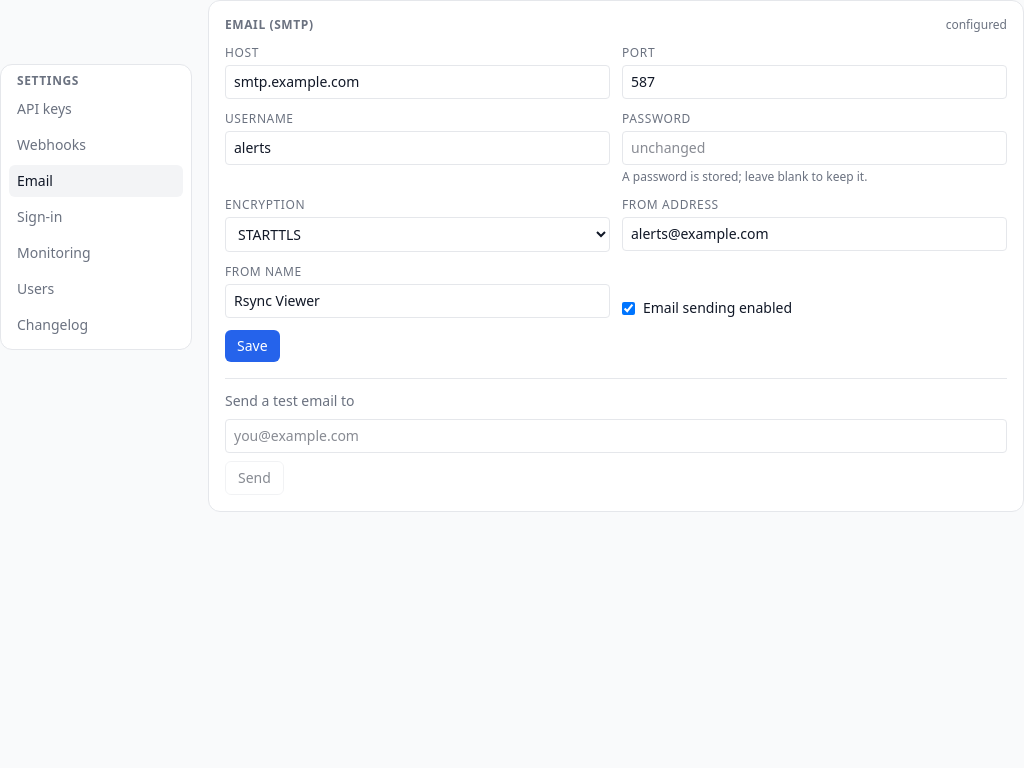
Email (AC-014) › loads settings, keeps the password on save, and sends a test
Expected: the field labelled "Host" holds "smtp.example.com", x1=225 y1=65 x2=610 y2=99
Replace the text in the field labelled "From name" with "Alerts" at {"x": 418, "y": 301}, box x1=225 y1=284 x2=610 y2=318
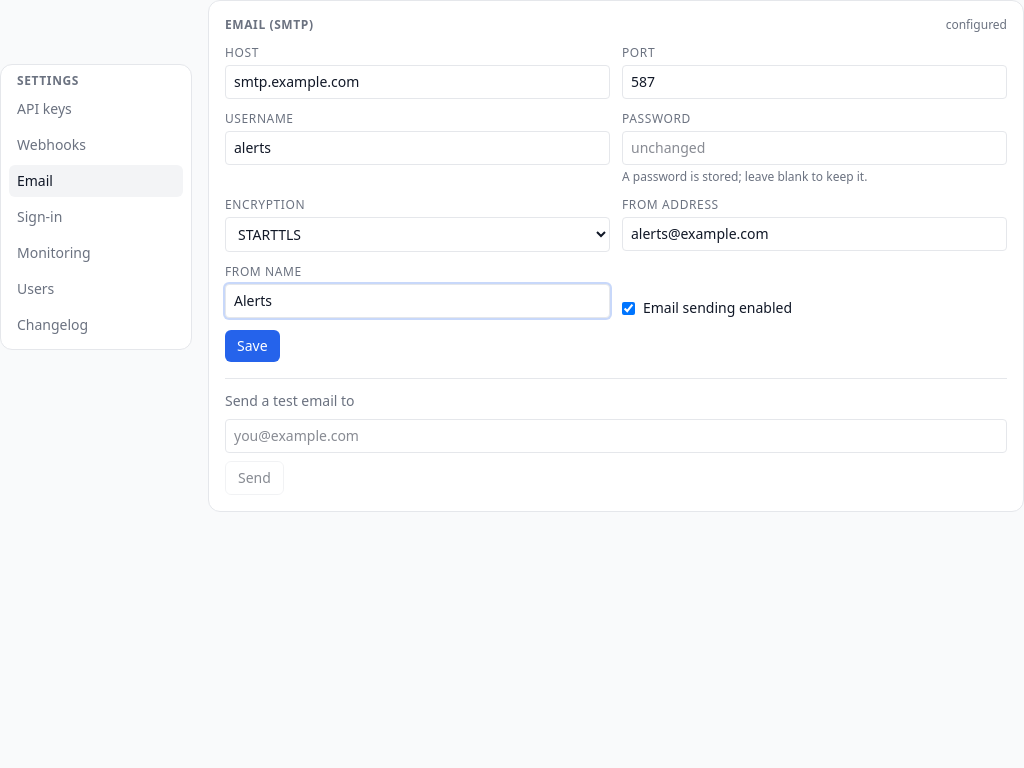
Click the button "Save".
click(252, 346)  # box x1=225 y1=330 x2=280 y2=362
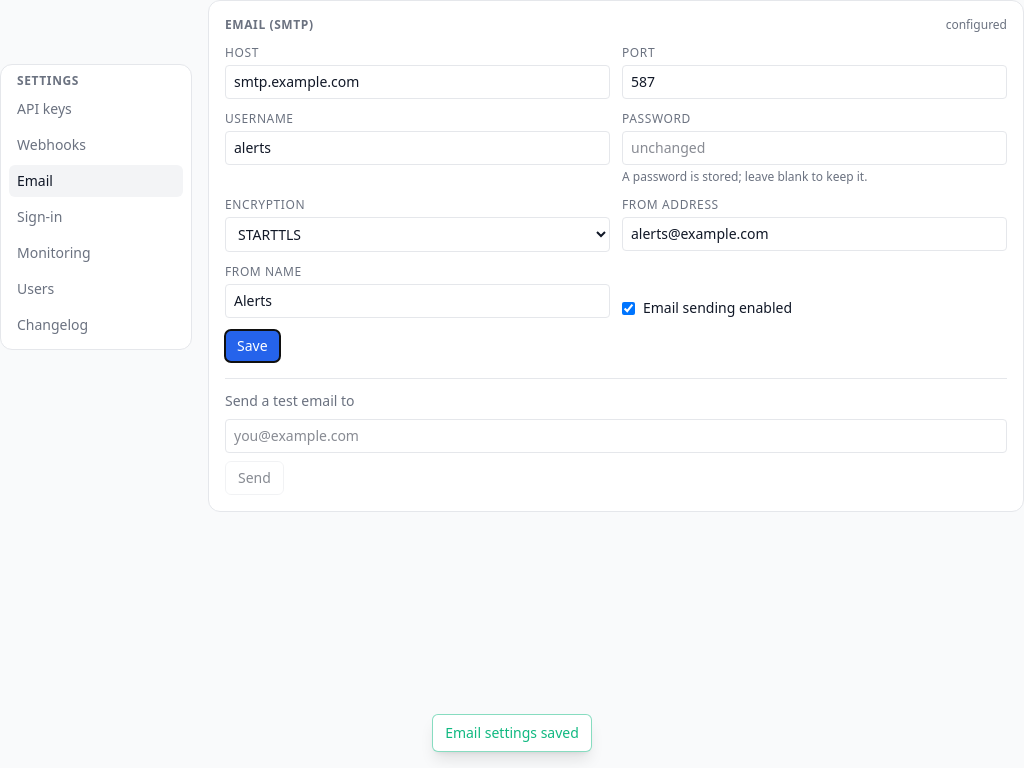
Expected: the message with test id "toast" reads "Email settings saved", x1=445 y1=723 x2=579 y2=742
Type "me@example.com" into the field named "Test email address".
click(616, 436); type("me@example.com")  # box x1=225 y1=419 x2=1007 y2=453
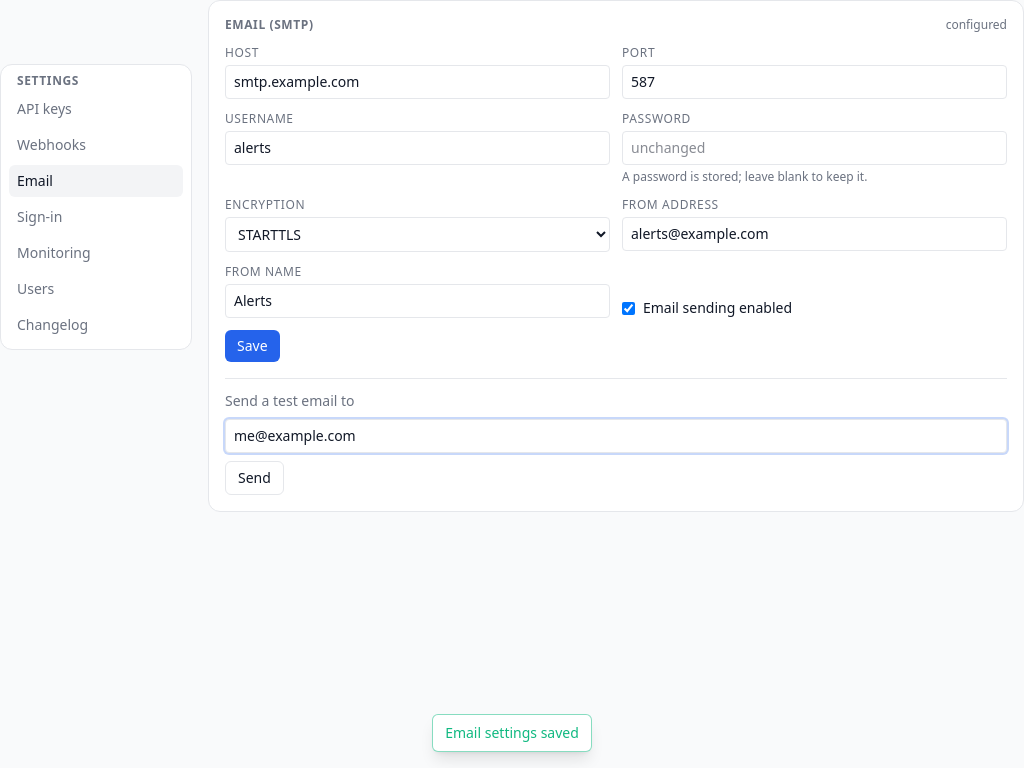
Click the button "Send".
click(254, 478)  # box x1=225 y1=461 x2=284 y2=495
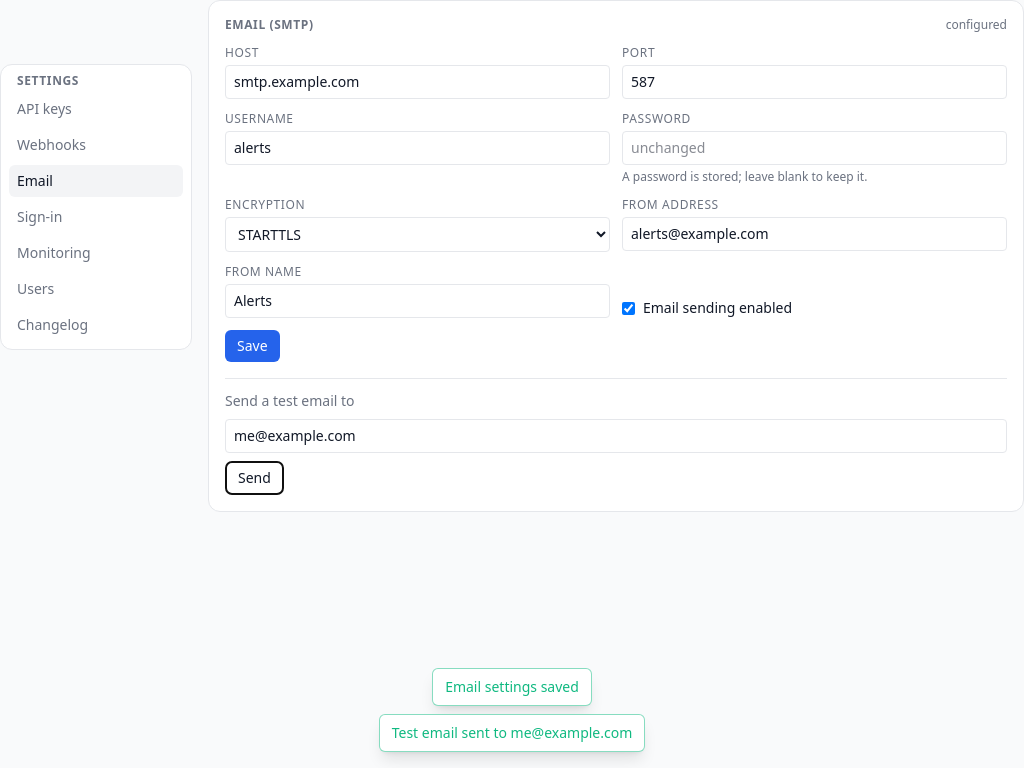
Expected: the message with test id "toast" reads "Test email sent to me@example.com", x1=392 y1=723 x2=632 y2=742
